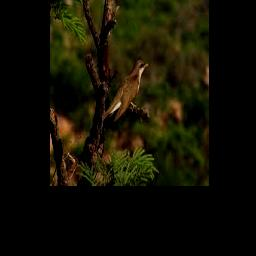Cuckoo: (102, 58, 149, 123)
